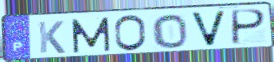K: (37, 20, 67, 55)
M: (70, 16, 113, 54)
O: (113, 14, 149, 53), (151, 13, 190, 49)
P: (230, 9, 268, 47)
V: (188, 10, 229, 48)
